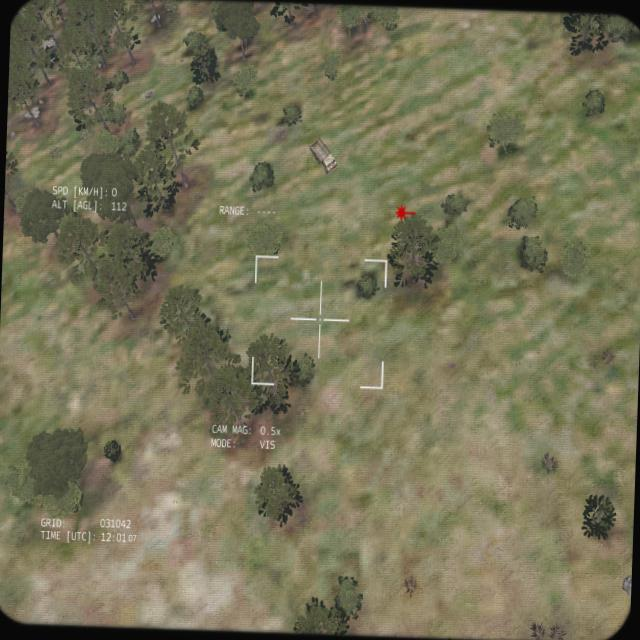truck: (306, 136, 338, 172)
